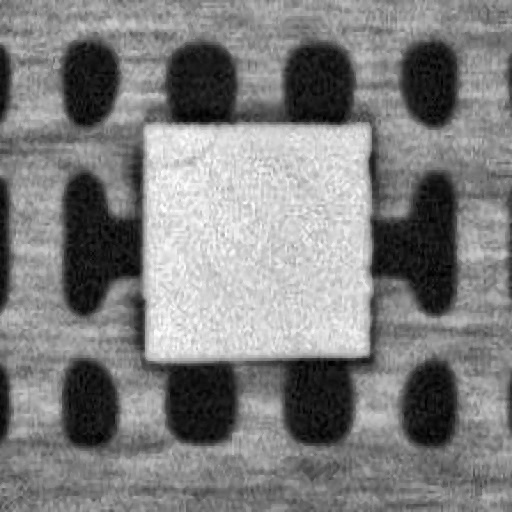DIE_CRACK: (150, 122, 220, 162)
